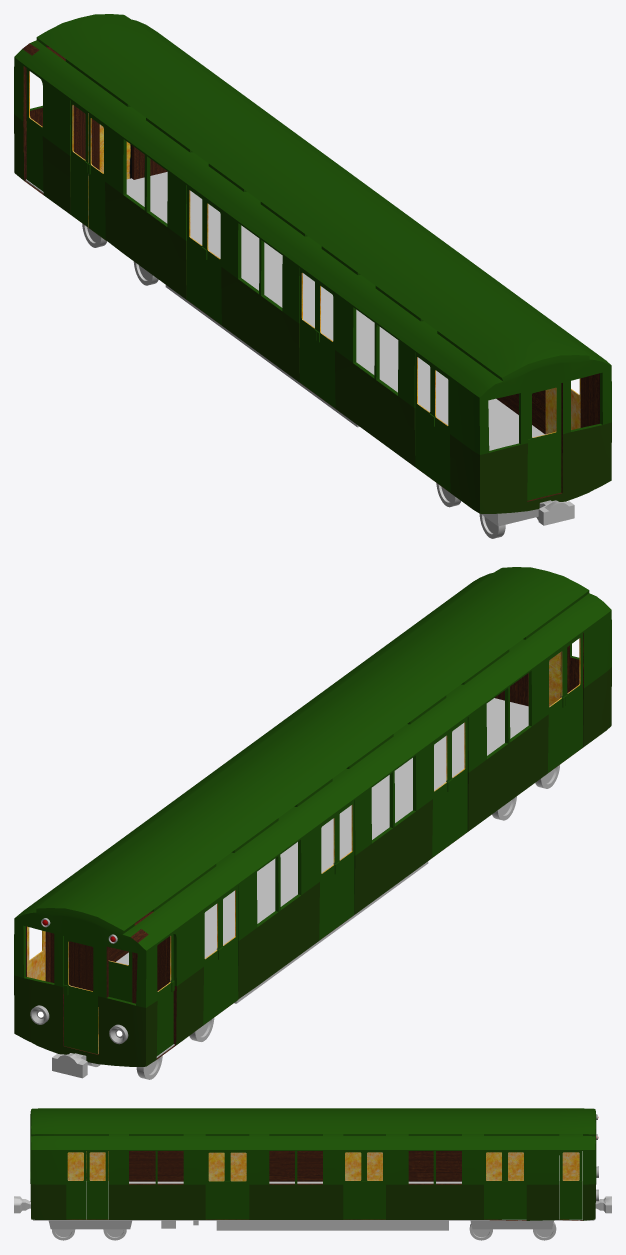
The model's file is MetrowagonAnkaToy.gltf.
3 renders of one model, top to bottom at view 1: azimuth 30°, elevation 25°; view 2: azimuth 150°, elevation 25°; view 3: azimuth 270°, elevation 25°, orthographic. The views are drawn at different scales.
Visible parts, largest first — view 1: MetrowagonA_wagon, Cube.001, Door.016, Door.012, Door.013, Cube, Door.014, Door.011, Door.008, Door.015, Door.009, Door.010 (+2 smaller); view 2: MetrowagonA_wagon, Cube.001, Door.017, Cube, Door.009, Door.013, Door.014, Door.010, Door.011, Door.012, Door.008, Door.015 (+3 smaller); view 3: MetrowagonA_wagon, Bogey.003, Door.019, Cube.001, Door, Door.001, Door.002, Door.005, Door.006, Door.003, Door.004, Door.007 (+17 smaller).
Part boxes in pixels (x1,y1,x2,y2): MetrowagonA_wagon: (14, 14, 611, 513); Cube.001: (25, 172, 544, 450); Door.016: (527, 383, 561, 500); Door.012: (299, 268, 317, 394); Door.013: (316, 281, 335, 408); Cube: (73, 105, 167, 179); Door.014: (431, 365, 450, 492); Door.011: (187, 186, 204, 312); Door.008: (71, 101, 88, 227); Door.015: (415, 353, 432, 479); Door.009: (87, 113, 106, 240); Door.010: (204, 199, 221, 325); MetrowagonA_wagon: (14, 567, 611, 1066); Cube.001: (15, 698, 528, 1057); Door.017: (63, 936, 98, 1054); Cube: (50, 933, 169, 1003); Door.009: (220, 885, 238, 1012); Door.013: (449, 718, 467, 844); Door.014: (565, 633, 582, 760); Door.010: (337, 801, 354, 927); Door.011: (319, 813, 337, 940); Door.012: (432, 731, 450, 857); Door.008: (203, 899, 221, 1025); Door.015: (548, 646, 565, 772); MetrowagonA_wagon: (30, 1108, 596, 1220); Bogey.003: (216, 1220, 448, 1230); Door.019: (559, 1151, 582, 1219); Cube.001: (33, 1181, 594, 1220); Door: (205, 1151, 227, 1219); Door.001: (227, 1151, 249, 1219); Door.002: (87, 1151, 108, 1219); Door.005: (364, 1151, 385, 1219); Door.006: (505, 1151, 526, 1219); Door.003: (66, 1151, 86, 1219); Door.004: (343, 1151, 363, 1219); Door.007: (484, 1151, 504, 1219).
Bounding box in the file's own units: 0.3878 × 0.5286 × 2.47.
